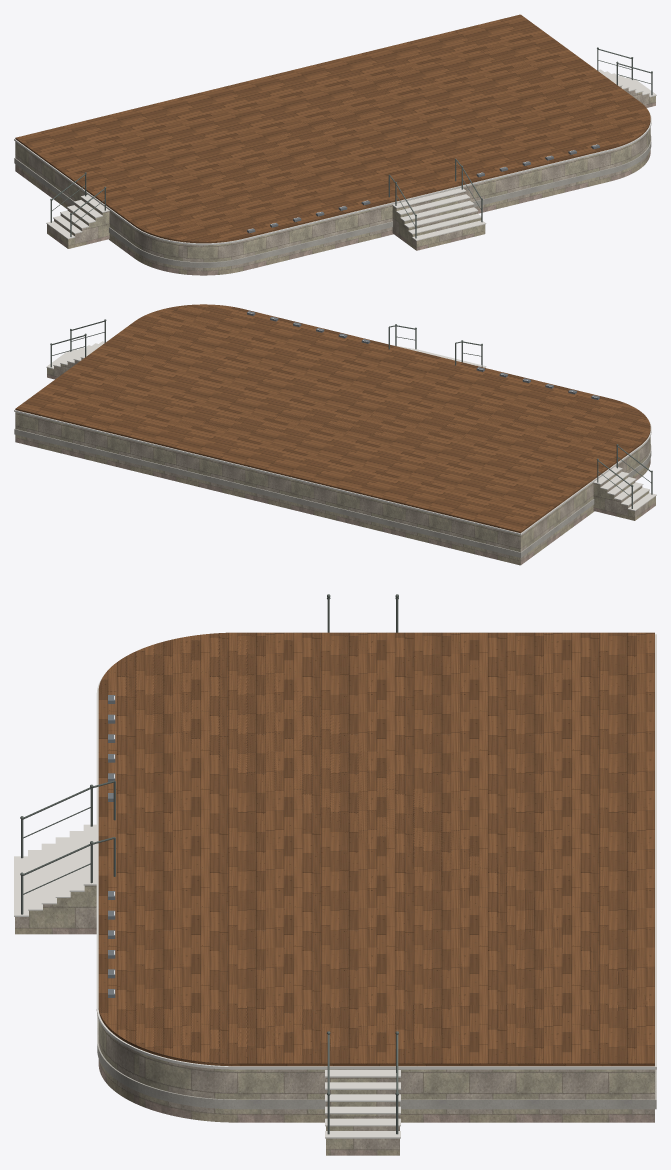
Rendered from stage.glb.
The picture shows the model from 3 angles, top to bottom: view 1: azimuth 30°, elevation 25°; view 2: azimuth 150°, elevation 25°; view 3: azimuth 270°, elevation 25°; orthographic projection. The views are drawn at different scales.
Parts seen in each view (by area): view 1: stage_stage_w, stage_stone, stage_coping, stage_concrete, stage_iron, stage_steel_d; view 2: stage_stage_w, stage_stone, stage_concrete, stage_coping, stage_iron, stage_steel_d; view 3: stage_stage_w, stage_stone, stage_coping, stage_concrete, stage_iron, stage_steel_d.
Part boxes in pixels (<box>): stage_stage_w: <box>15,14,650,243</box>; stage_stone: <box>15,86,655,275</box>; stage_coping: <box>14,69,656,245</box>; stage_concrete: <box>14,135,651,267</box>; stage_iron: <box>50,47,652,238</box>; stage_steel_d: <box>247,144,599,233</box>; stage_stage_w: <box>15,304,650,533</box>; stage_stone: <box>15,358,655,565</box>; stage_concrete: <box>14,429,651,557</box>; stage_coping: <box>14,341,656,535</box>; stage_iron: <box>50,319,652,508</box>; stage_steel_d: <box>247,311,599,399</box>; stage_stage_w: <box>98,632,654,1066</box>; stage_stone: <box>15,885,654,1155</box>; stage_coping: <box>14,634,656,1138</box>; stage_concrete: <box>97,1016,656,1109</box>; stage_iron: <box>20,594,398,1134</box>; stage_steel_d: <box>108,695,115,997</box>.
Bounding box in the file's own units: 25.65 × 2.34 × 13.86.
Materials: 7 (3 with a texture image).
